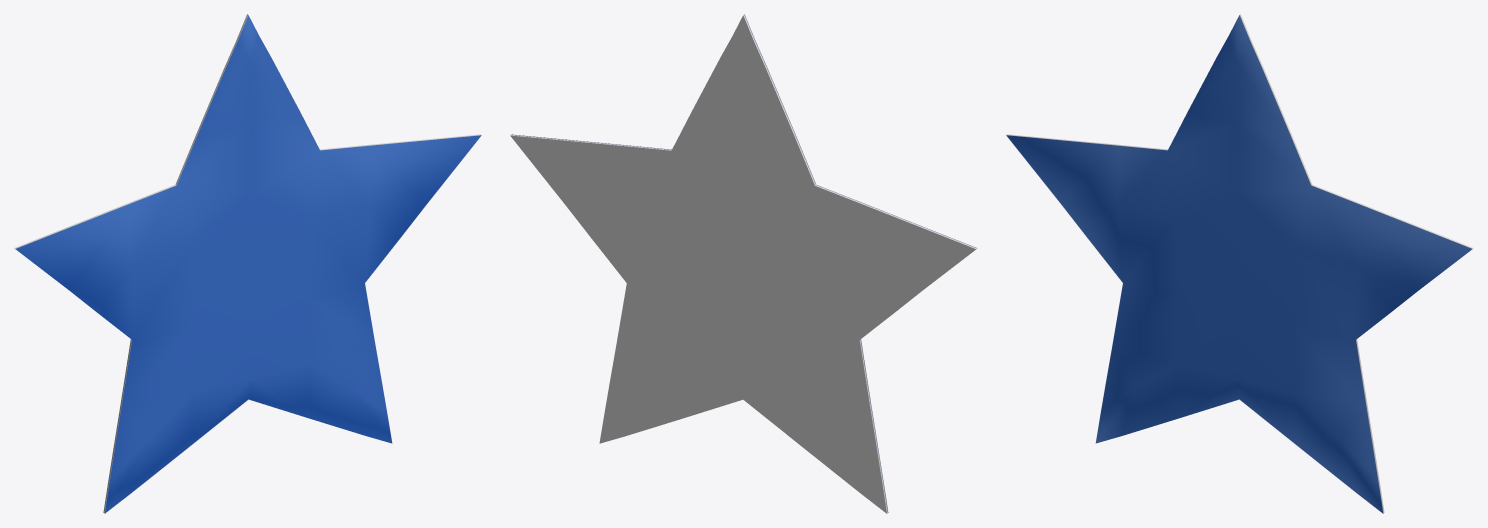
Rendered from hosi_blue.glb.
3 renders of one model, left to right at view 1: azimuth 30°, elevation 25°; view 2: azimuth 150°, elevation 25°; view 3: azimuth 330°, elevation 25°, orthographic.
Visible parts, largest first — view 1: Plane.001, Plane.002, Plane; view 2: Plane, Plane.001; view 3: Plane.001, Plane.002, Plane.
Boxes of the visible parts, bbox=[...] form: Plane.001: bbox=[15, 15, 481, 513]; Plane.002: bbox=[16, 15, 481, 513]; Plane: bbox=[14, 14, 480, 513]; Plane: bbox=[510, 14, 976, 513]; Plane.001: bbox=[512, 14, 976, 512]; Plane.001: bbox=[1006, 15, 1472, 513]; Plane.002: bbox=[1006, 15, 1471, 513]; Plane: bbox=[1007, 14, 1473, 513].
Bounding box in the file's own units: 1.95 × 1.85 × 0.0288.
